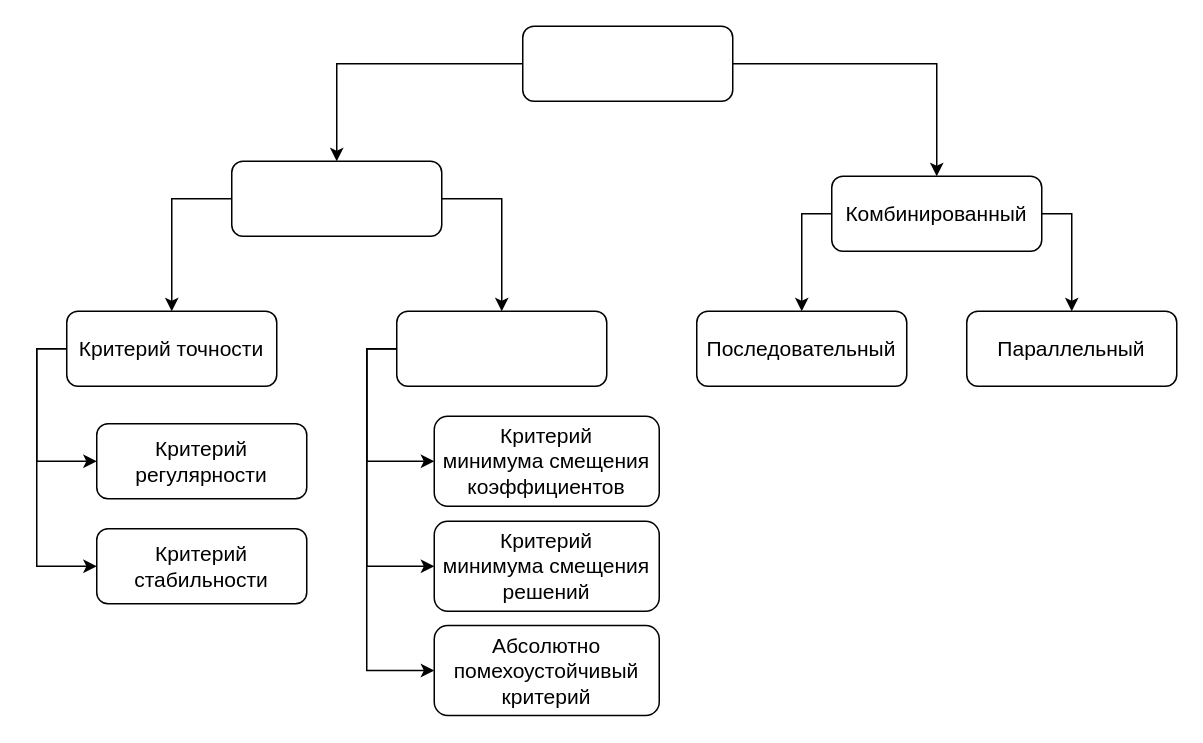
This 1203x743 diagram has some shape labels left out. The shapes that lost their labels are listed below. From the top down, each one's centre as x and y in pixels, then its label:
the point at 627,63: Внешний критерий
the point at 336,198: Индивидуальный
the point at 501,348: Критерий согласованности
